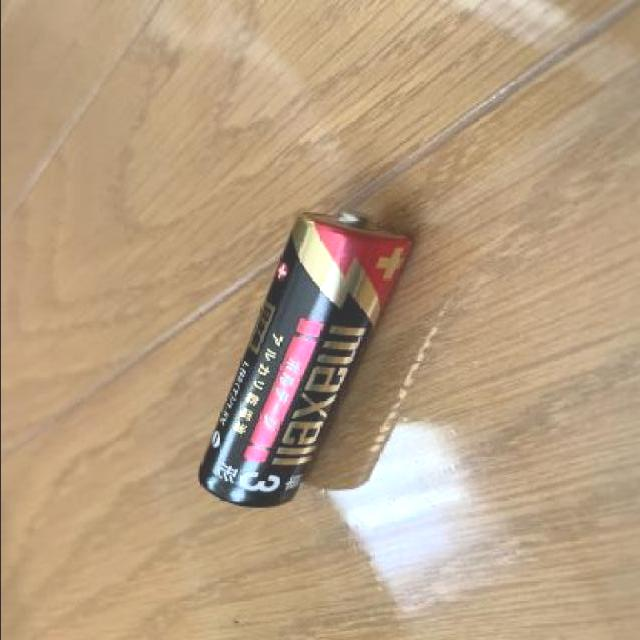AA: (194, 198, 423, 511)
